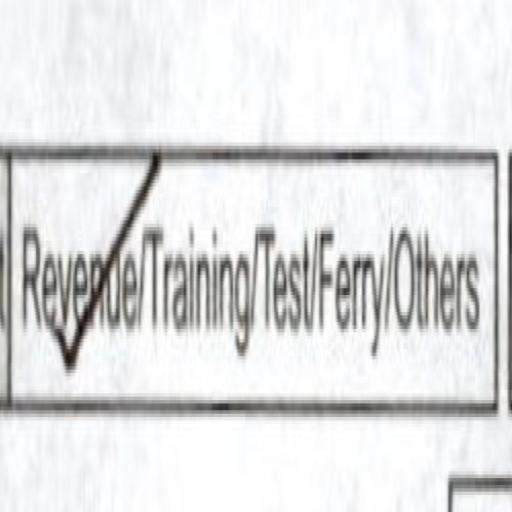check: (14, 122, 140, 426)
